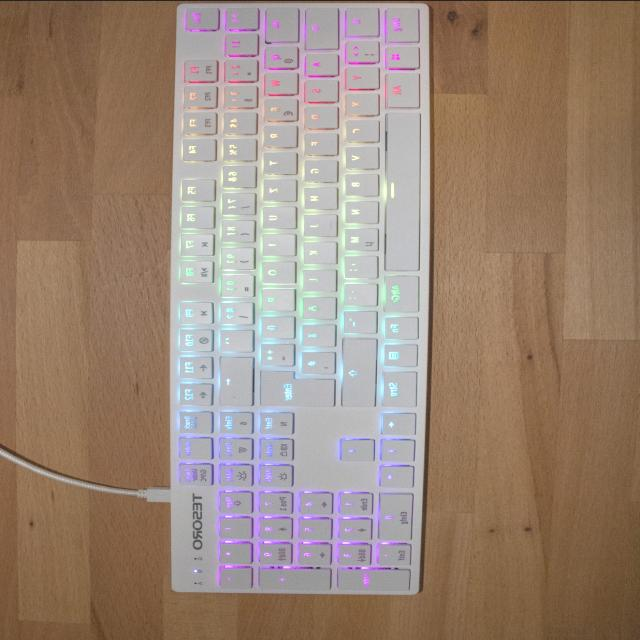0: (217, 272, 253, 296)
1: (222, 30, 256, 54)
2: (222, 56, 256, 80)
3: (221, 83, 255, 107)
4: (221, 109, 255, 133)
5: (221, 136, 255, 159)
6: (218, 164, 254, 187)
7: (219, 190, 254, 213)
8: (218, 217, 254, 241)
9: (218, 244, 253, 268)
a: (301, 51, 337, 74)
accent: (216, 327, 251, 350)
ae: (298, 321, 335, 345)
alt-left: (382, 69, 418, 107)
altgr-right: (381, 272, 418, 311)
b: (341, 171, 377, 195)
c: (342, 117, 377, 141)
caret: (222, 5, 256, 27)
comma: (340, 254, 376, 277)
d: (301, 103, 337, 127)
del: (216, 354, 252, 404)
e: (261, 96, 296, 120)
enter: (257, 367, 334, 405)
f: (301, 130, 336, 154)
g: (300, 157, 336, 180)
h: (300, 185, 336, 208)
hash: (298, 349, 334, 373)
i: (259, 231, 294, 254)
j: (299, 212, 335, 235)
k: (299, 240, 335, 263)
keyboard: (165, 0, 432, 595)
l: (298, 266, 335, 290)
less: (342, 37, 376, 61)
m: (341, 225, 378, 249)
minus: (340, 308, 376, 332)
n: (341, 198, 377, 222)
o: (258, 258, 294, 282)
oe: (299, 295, 335, 318)
p: (257, 286, 293, 310)
plus: (257, 340, 293, 364)
point: (340, 281, 375, 304)
q: (261, 43, 296, 67)
r: (260, 122, 296, 146)
s: (302, 77, 337, 101)
shift-left: (343, 5, 377, 35)
shift-lock: (302, 5, 337, 48)
shift-right: (338, 336, 374, 404)
space: (381, 109, 419, 269)
ss: (217, 299, 252, 323)
strg-left: (381, 3, 417, 41)
strg-right: (379, 368, 415, 406)
t: (259, 149, 295, 173)
tab: (262, 5, 297, 41)
u: (259, 204, 295, 228)
ue: (257, 313, 293, 337)
v: (341, 144, 377, 168)
w: (261, 69, 296, 93)
x: (342, 91, 377, 114)
y: (343, 64, 377, 88)
z: (259, 177, 295, 200)
